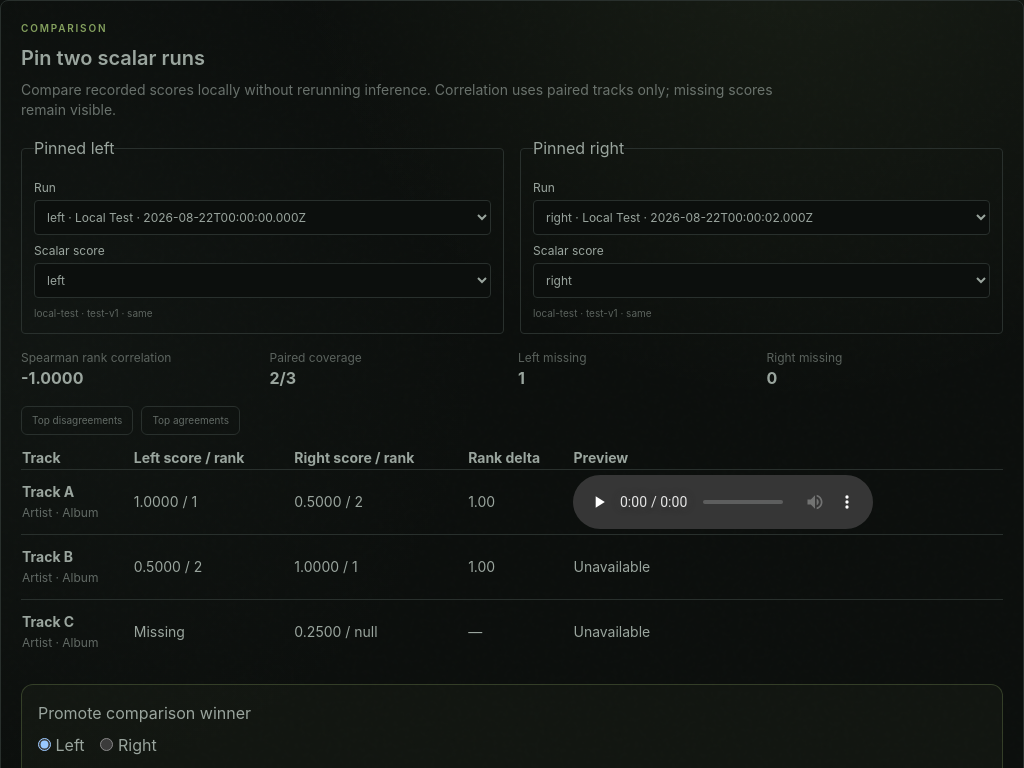
Test: compares recorded runs without inference and promotes an immutable selected winner
Expected: the dropdown named "Pinned right run" shows "right · Local Test · 2026-08-22T00:00:02.000Z", top-left (533, 200), bottom-right (990, 235)
Select "right · Local Test · 2026-08-22T00:00:02.000Z" in the dropdown named "Pinned left run" at point(262, 218), box top-left (34, 200), bottom-right (491, 235)
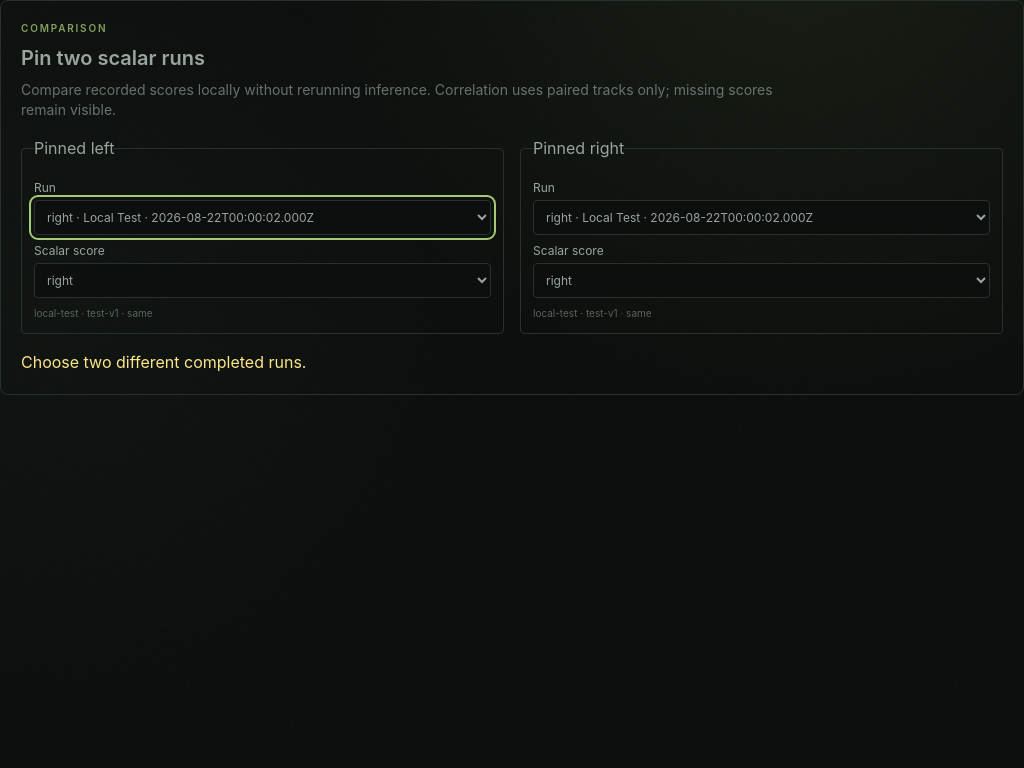
Now the message shows "two different completed runs", box top-left (21, 352), bottom-right (306, 372)
Select "left · Local Test · 2026-08-22T00:00:00.000Z" in the dropdown named "Pinned left run" at point(262, 218), box top-left (34, 200), bottom-right (491, 235)
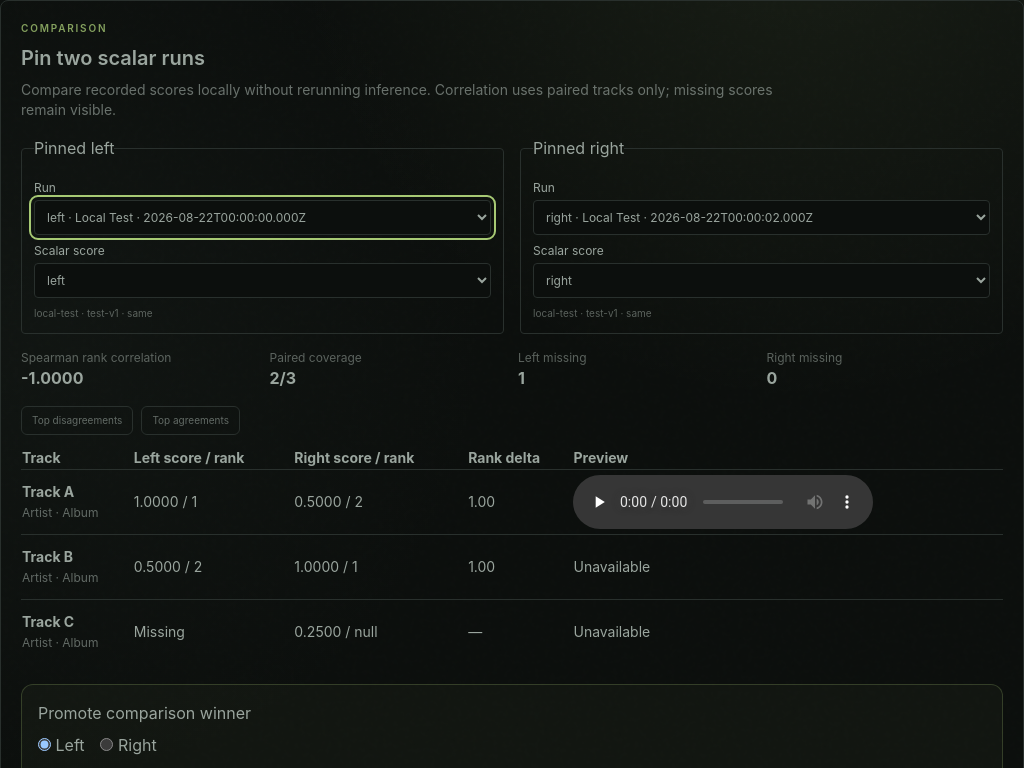
Now the element named "Comparison summary" shows "2/3", box top-left (21, 350), bottom-right (842, 388)
Now the text "Track A" is shown, box top-left (22, 483), bottom-right (74, 500)
Now the text "Track C" shows "Missing", box top-left (134, 623), bottom-right (185, 640)
Click the radio button labelled "Right" at point(107, 744), box top-left (100, 738), bottom-right (114, 751)
(page scrolled)
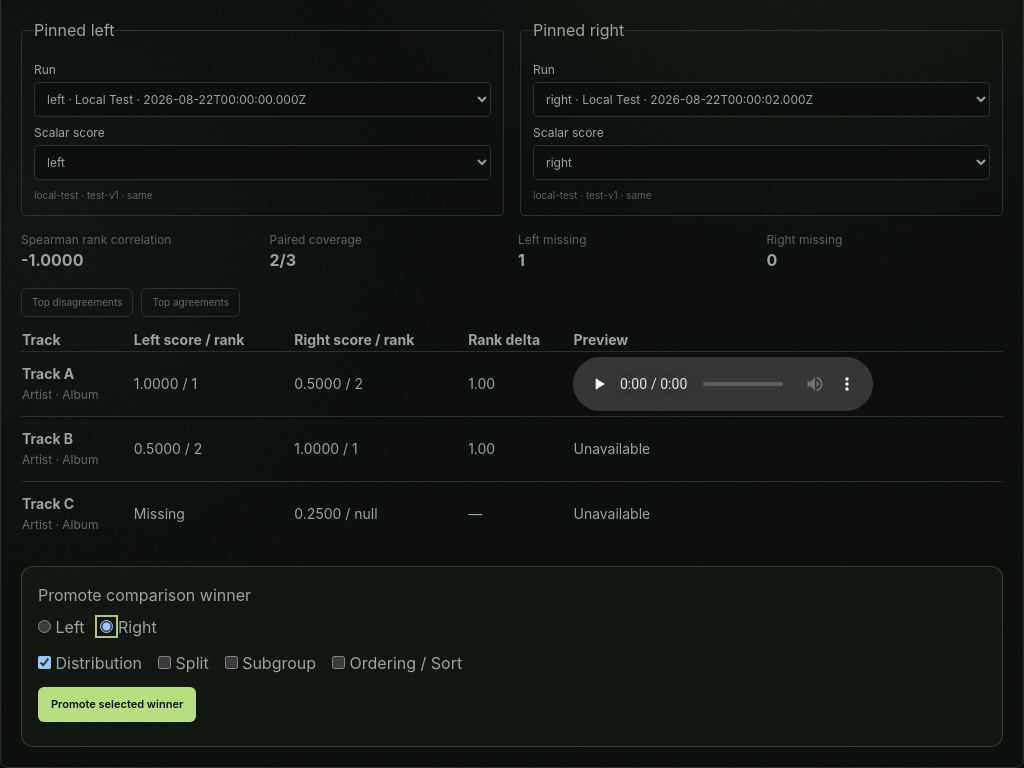
Click the button "Promote selected winner" at point(117, 704), box top-left (38, 687), bottom-right (196, 722)
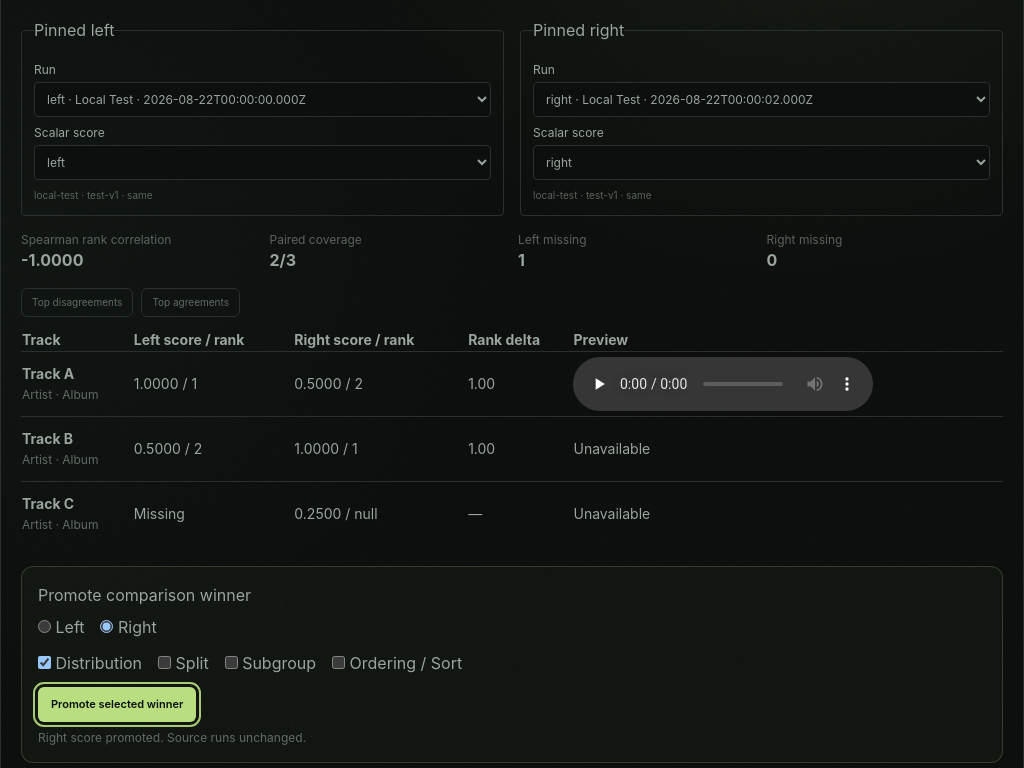
Now the message shows "Source runs unchanged", box top-left (38, 730), bottom-right (306, 744)
